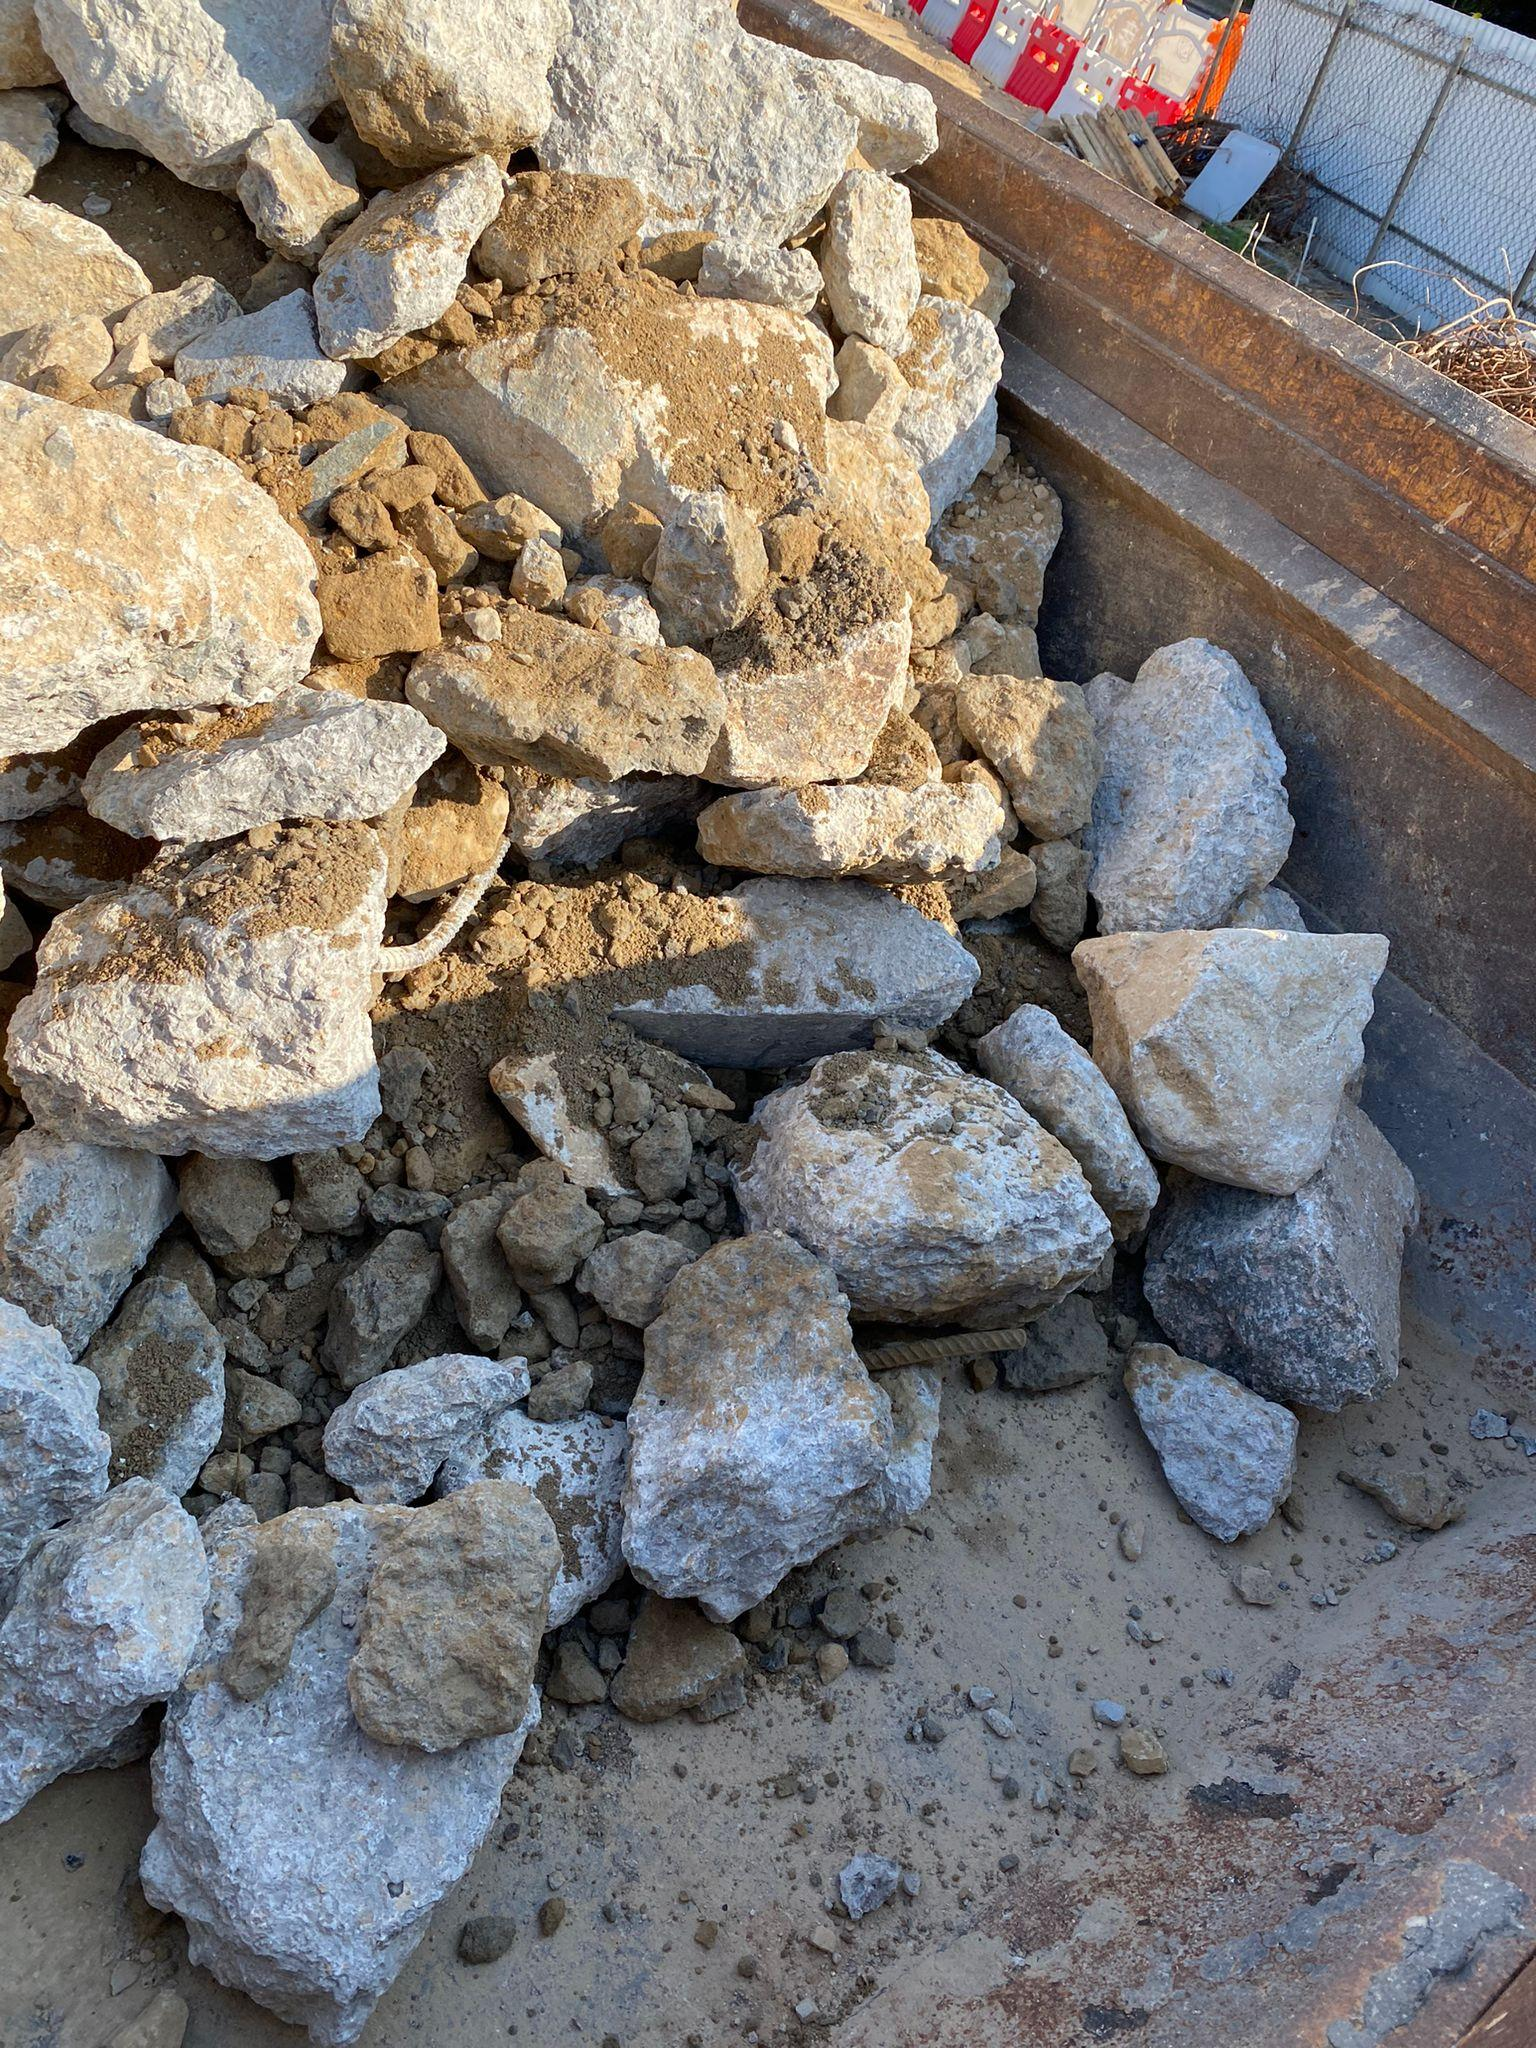stone: (0, 0, 1425, 2043), (136, 1476, 563, 2045), (616, 1229, 942, 1622), (0, 376, 324, 761), (729, 1043, 1115, 1330), (1137, 1095, 1418, 1413), (1070, 922, 1391, 1195), (1079, 634, 1296, 934), (1121, 1338, 1300, 1543)
